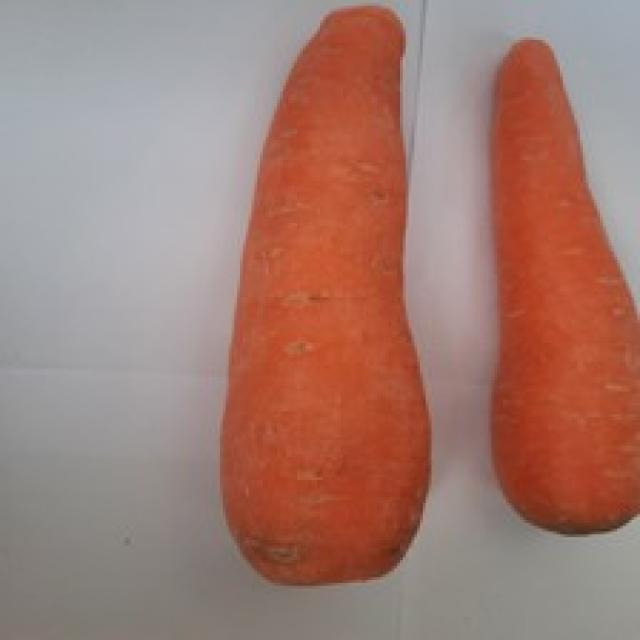carrot: (221, 6, 429, 584), (492, 39, 640, 533)
